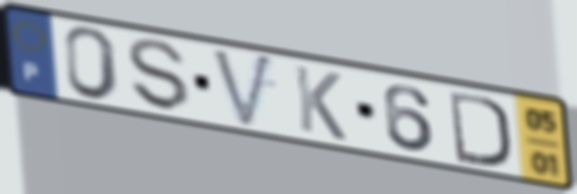0: (61, 24, 121, 103)
6: (381, 82, 438, 154)
D: (445, 87, 514, 171)
K: (291, 62, 349, 144)
S: (125, 36, 193, 115)
V: (208, 45, 277, 133)
